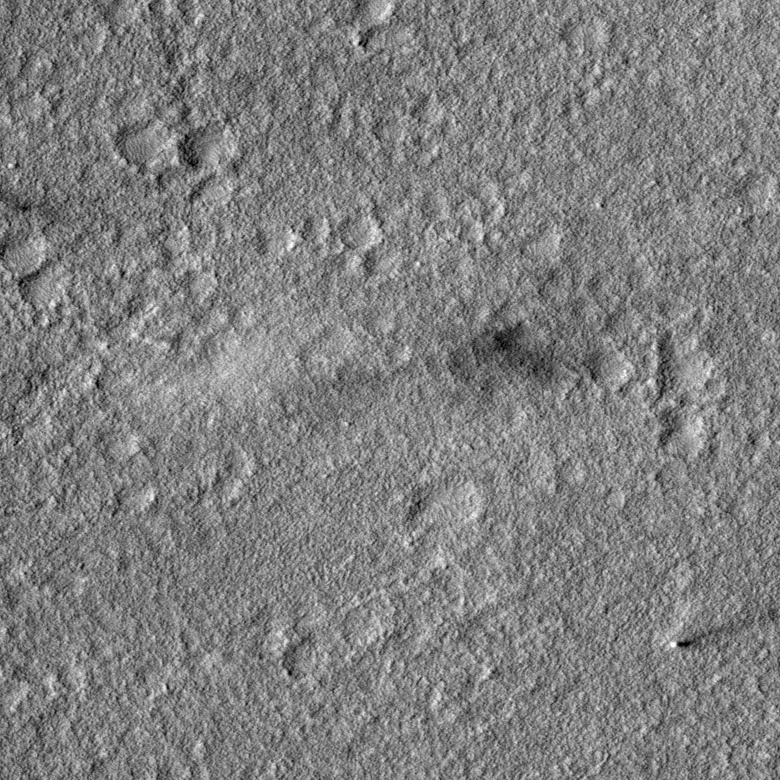dust_devil: (668, 604, 780, 650)
